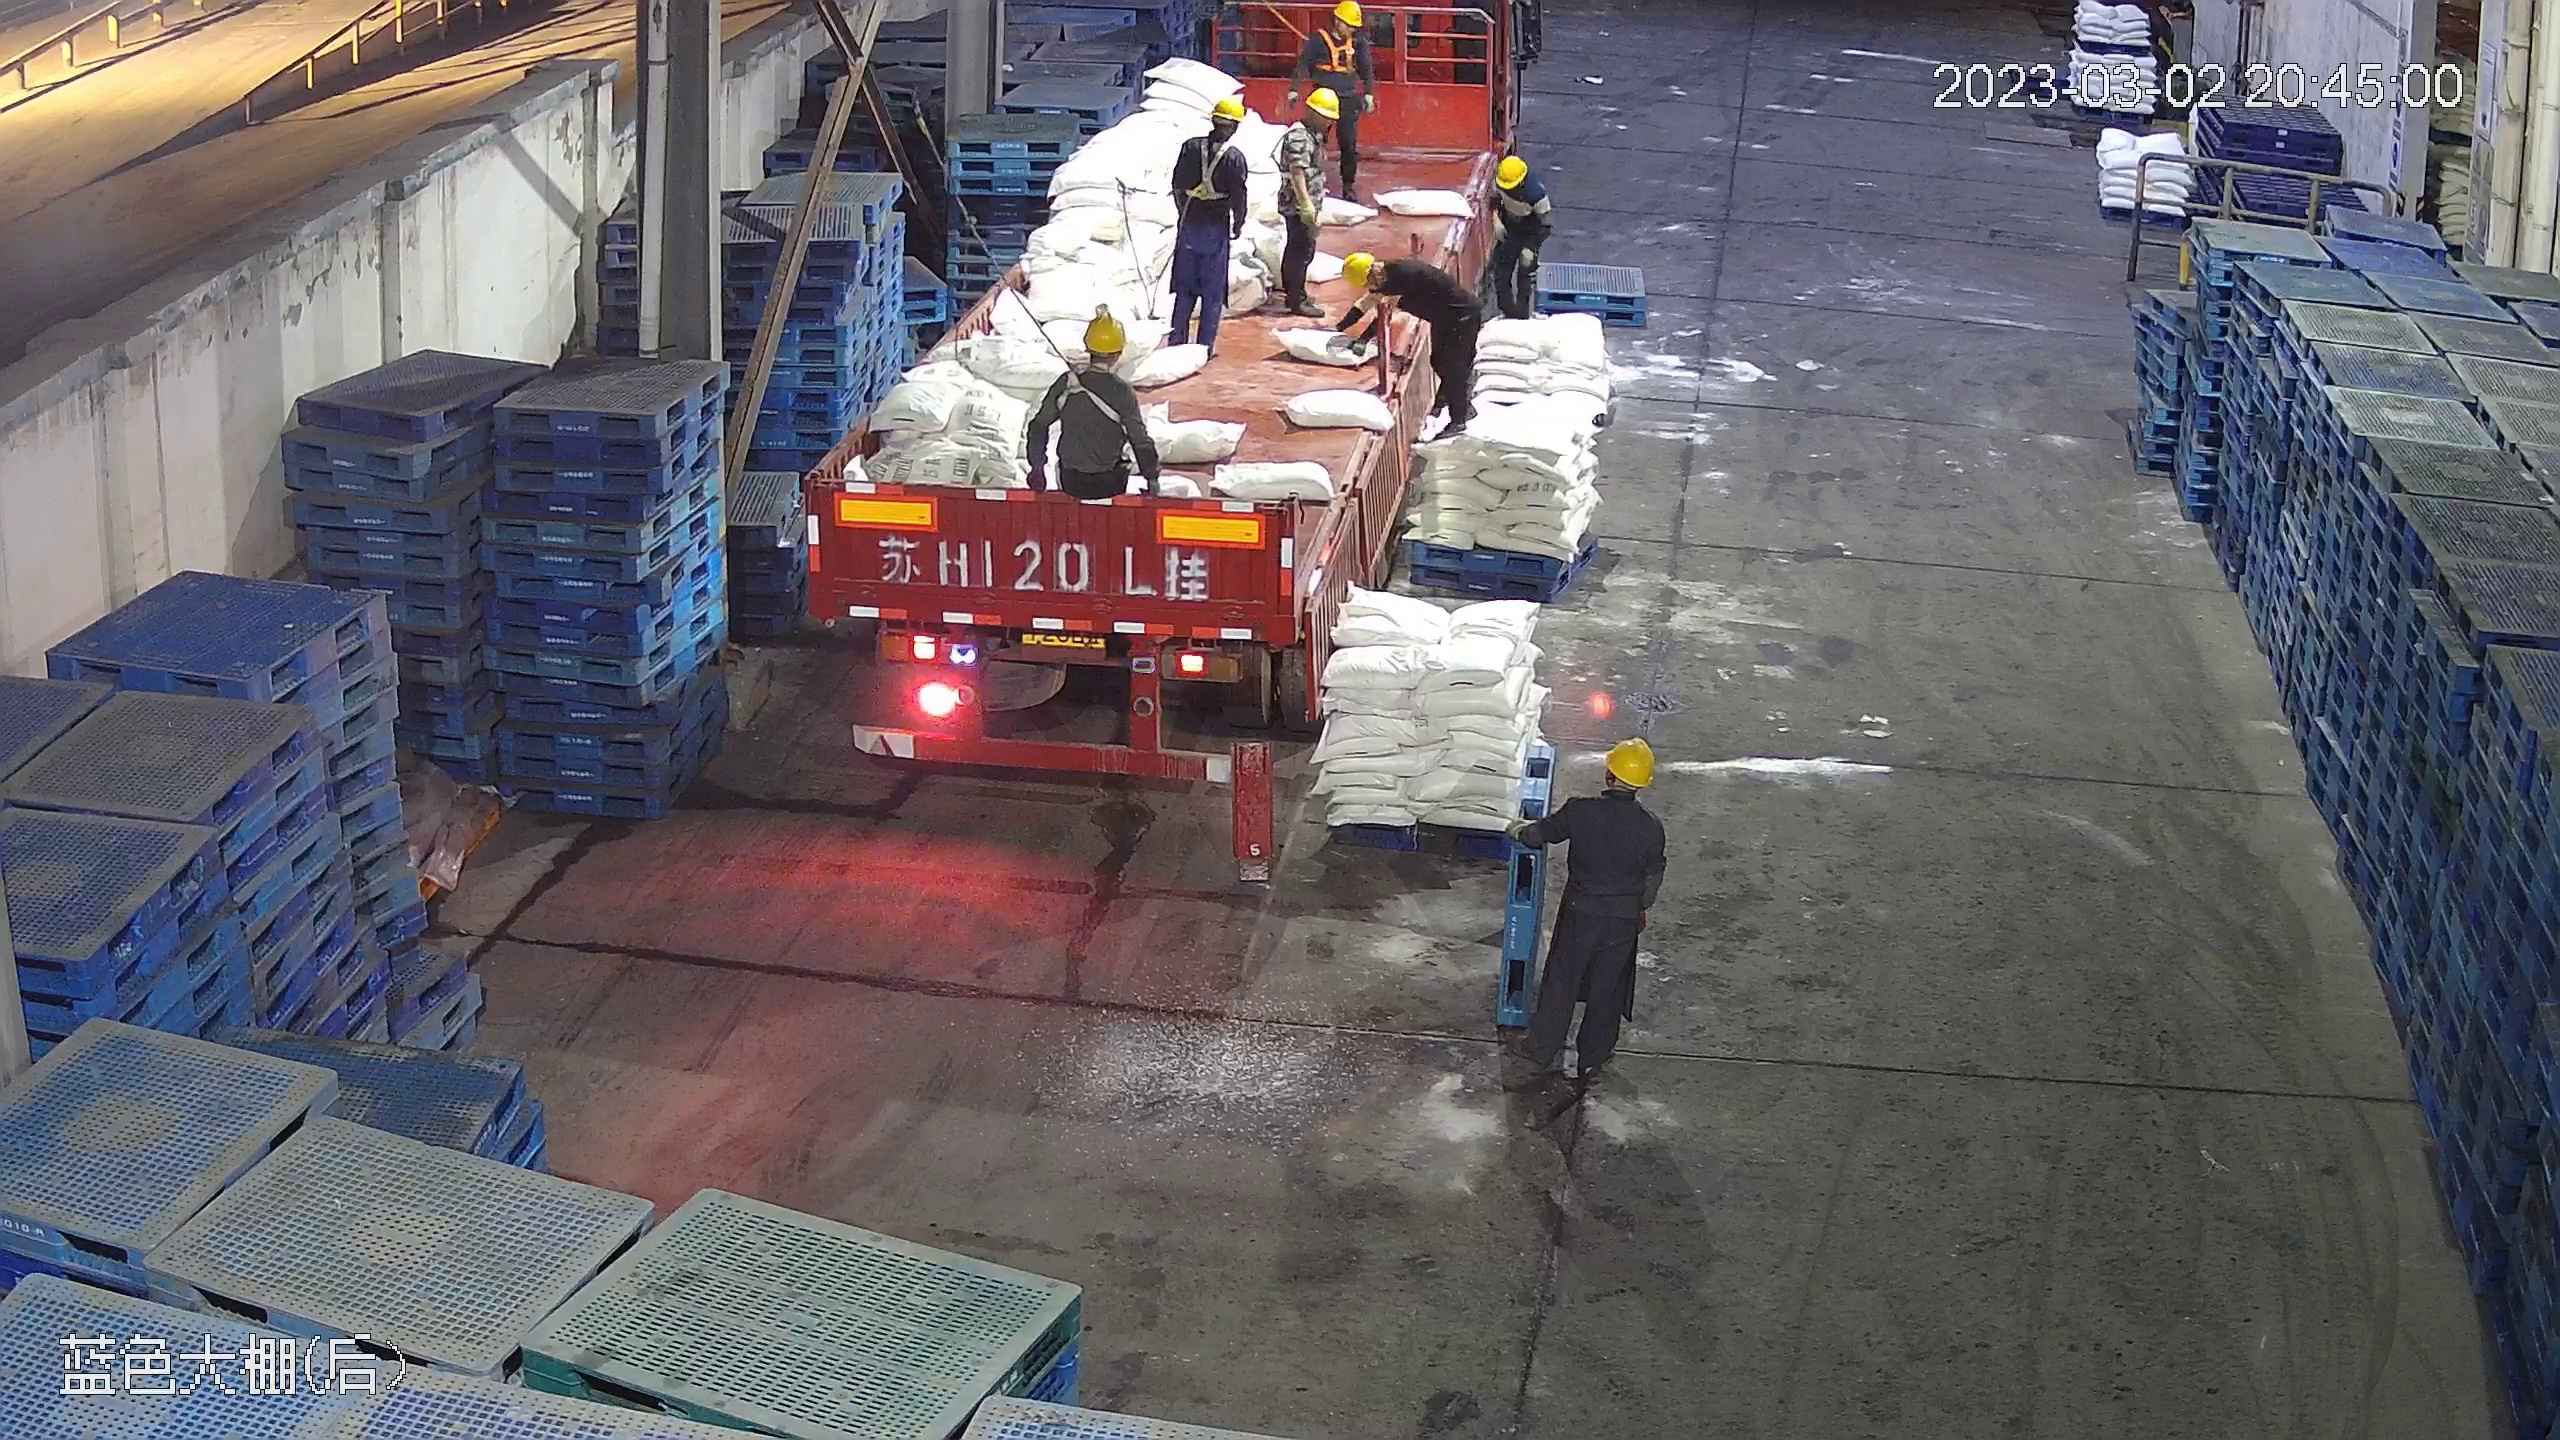belt: (1044, 362, 1128, 436), (1177, 130, 1234, 199), (1281, 126, 1328, 186), (1314, 25, 1363, 76)
head: (1549, 732, 1662, 857), (1045, 311, 1144, 411), (1336, 247, 1432, 323), (1178, 94, 1254, 171), (1278, 92, 1341, 164), (1487, 152, 1543, 219), (1303, 1, 1372, 56)
helmet: (1489, 151, 1540, 207), (1602, 734, 1654, 784), (1079, 309, 1129, 354), (1337, 250, 1378, 292), (1493, 151, 1527, 185), (1209, 94, 1247, 122), (1301, 89, 1336, 113), (1333, 1, 1364, 26)
people: (1512, 727, 1665, 1101), (1021, 266, 1167, 567), (1329, 246, 1486, 437), (1158, 88, 1251, 351), (1292, 1, 1376, 194), (1271, 87, 1336, 314), (1475, 151, 1550, 327)
truck: (821, 10, 1491, 795)
